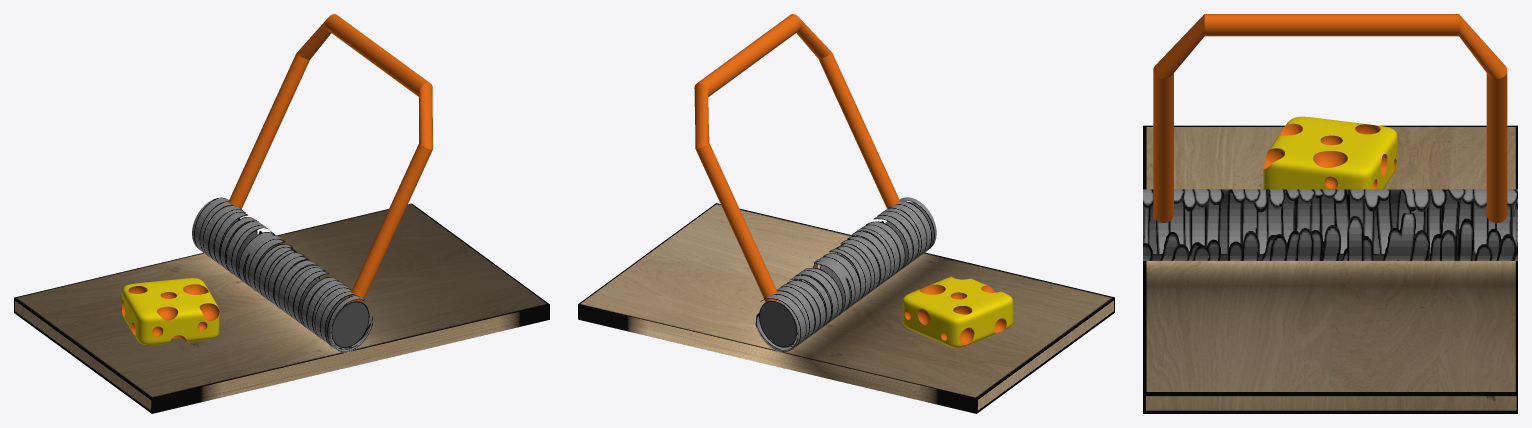
File: Mousetrap1.fbx
3 views of the same model, side by side, from view 1: azimuth 30°, elevation 25°; view 2: azimuth 150°, elevation 25°; view 3: azimuth 270°, elevation 25° (orthographic). The views are drawn at different scales.
Visible parts, largest first — view 1: Cylinder.003, Cylinder.001, Cylinder.002; view 2: Cylinder.003, Cylinder.001, Cylinder.002; view 3: Cylinder.003, Cylinder.001, Cylinder.002.
Boxes of the visible parts, x1,y1,x2,y2 form: Cylinder.003: (14, 203, 549, 413); Cylinder.001: (192, 14, 432, 352); Cylinder.002: (122, 278, 219, 344); Cylinder.003: (578, 203, 1114, 413); Cylinder.001: (694, 14, 936, 352); Cylinder.002: (902, 276, 1013, 347); Cylinder.003: (1143, 125, 1517, 413); Cylinder.001: (1143, 14, 1517, 260); Cylinder.002: (1263, 116, 1397, 189).
Bounding box in the file's own units: 602 × 354 × 361.
